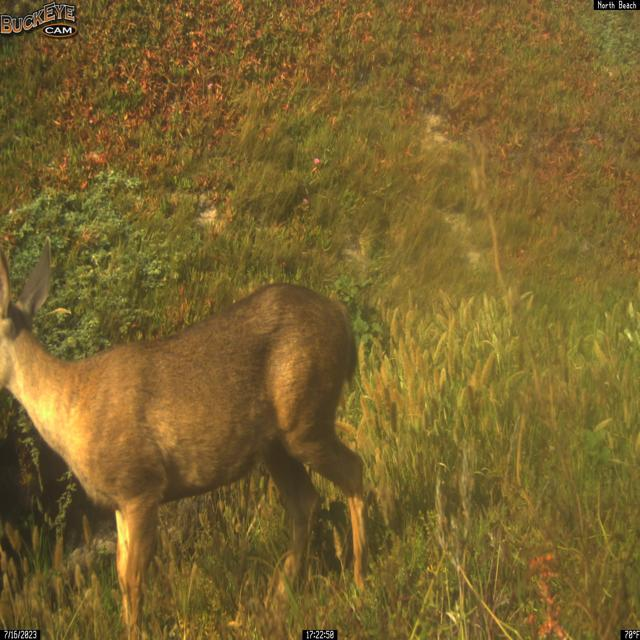deer: (0, 234, 370, 640)
